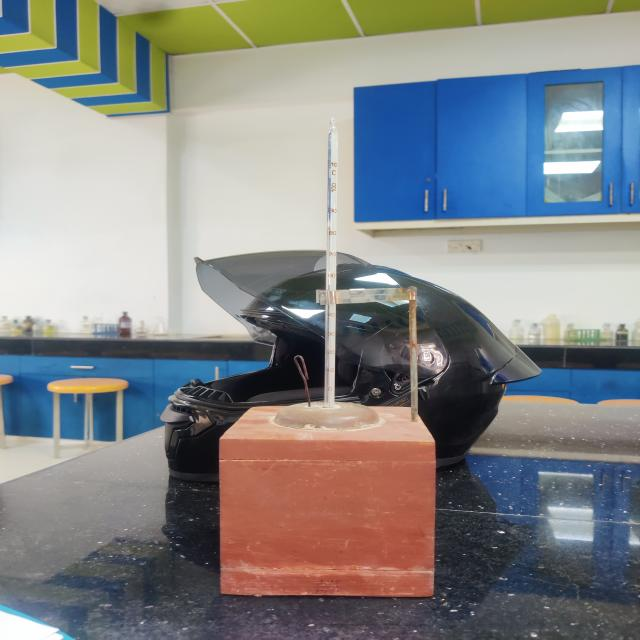Calorimeter: (192, 101, 468, 612)
